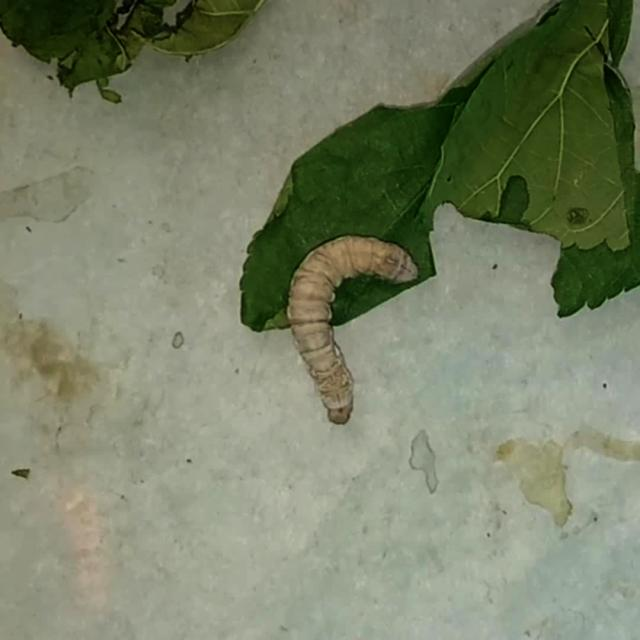Grasserie: (266, 200, 460, 451)
